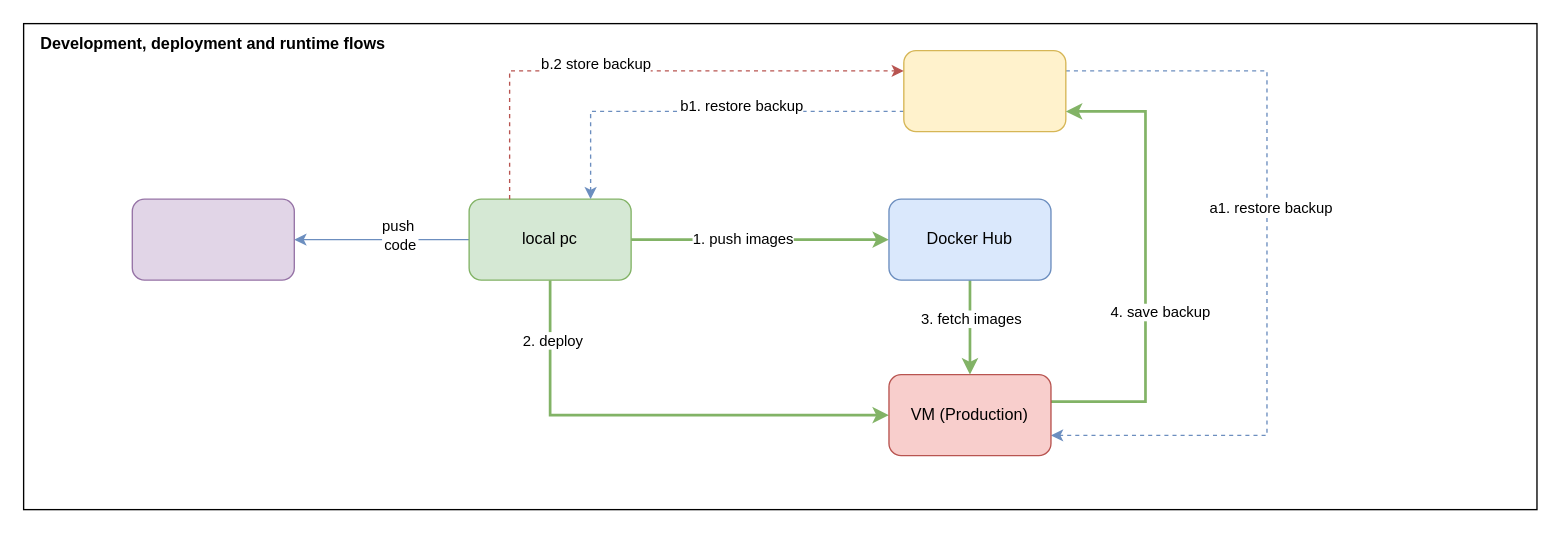
The diagram is 1561 pixels wide and 533 high, and some of its shapes have lost their labels. The centre of each missing label's shape, as x and y in pixels:
"bit bucket" goes at (212,239).
"S3 (AWS)" goes at (984,90).
